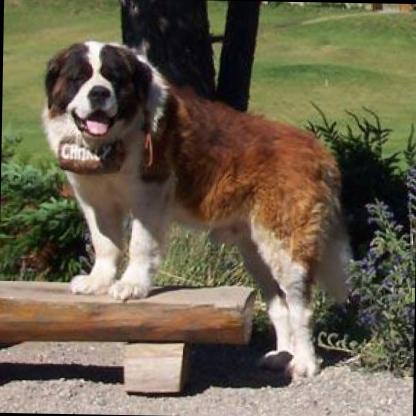Saint_Bernard: (30, 35, 359, 378)
